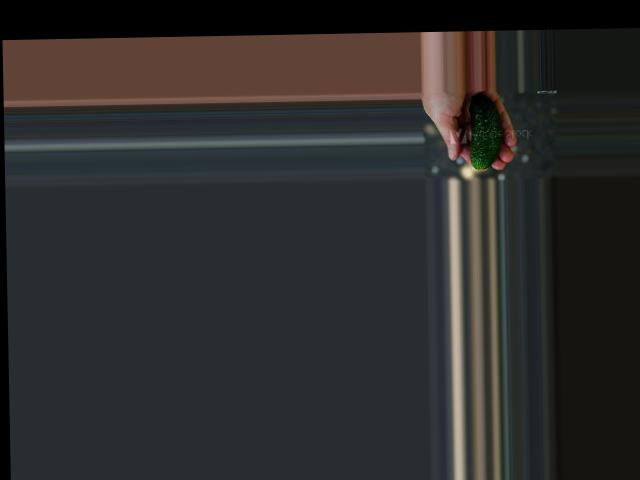cucumber: (469, 94, 503, 169)
